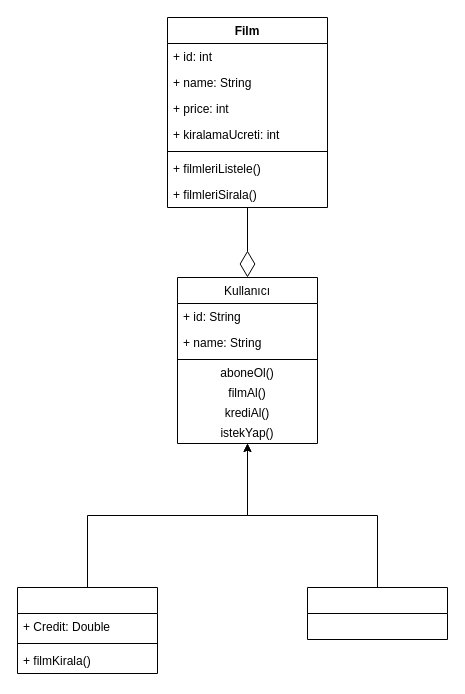
This 465x694 diagram has some shape labels left out. The shapes that lost their labels are listed below. From the top down, each one's box as (x1, y1, x2, y2) in pixels, then its label:
(16, 586, 158, 674): Abone
(306, 586, 448, 640): NormalKullanici
